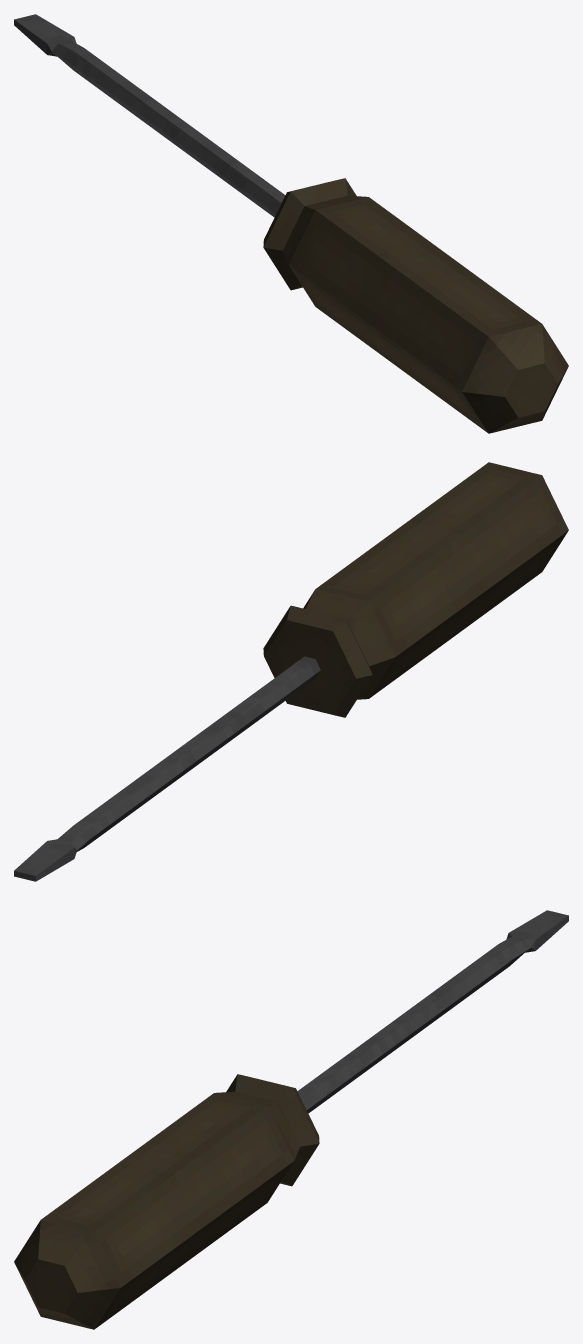
Rendered from screwdriver_mp_1_2.glb.
3 renders of one model, top to bottom at view 1: azimuth 30°, elevation 25°; view 2: azimuth 150°, elevation 25°; view 3: azimuth 330°, elevation 25°, orthographic.
Visible parts, largest first — view 1: screwdriver_mp_1_2; view 2: screwdriver_mp_1_2; view 3: screwdriver_mp_1_2.
Boxes of the visible parts, box(x1,y1,x2,y2) form: screwdriver_mp_1_2: box(14, 14, 568, 433); screwdriver_mp_1_2: box(14, 462, 568, 881); screwdriver_mp_1_2: box(14, 910, 568, 1329).
Size of the model in its own units: 0.0393 by 0.034 by 0.3156.
1 material, 1 textured.
